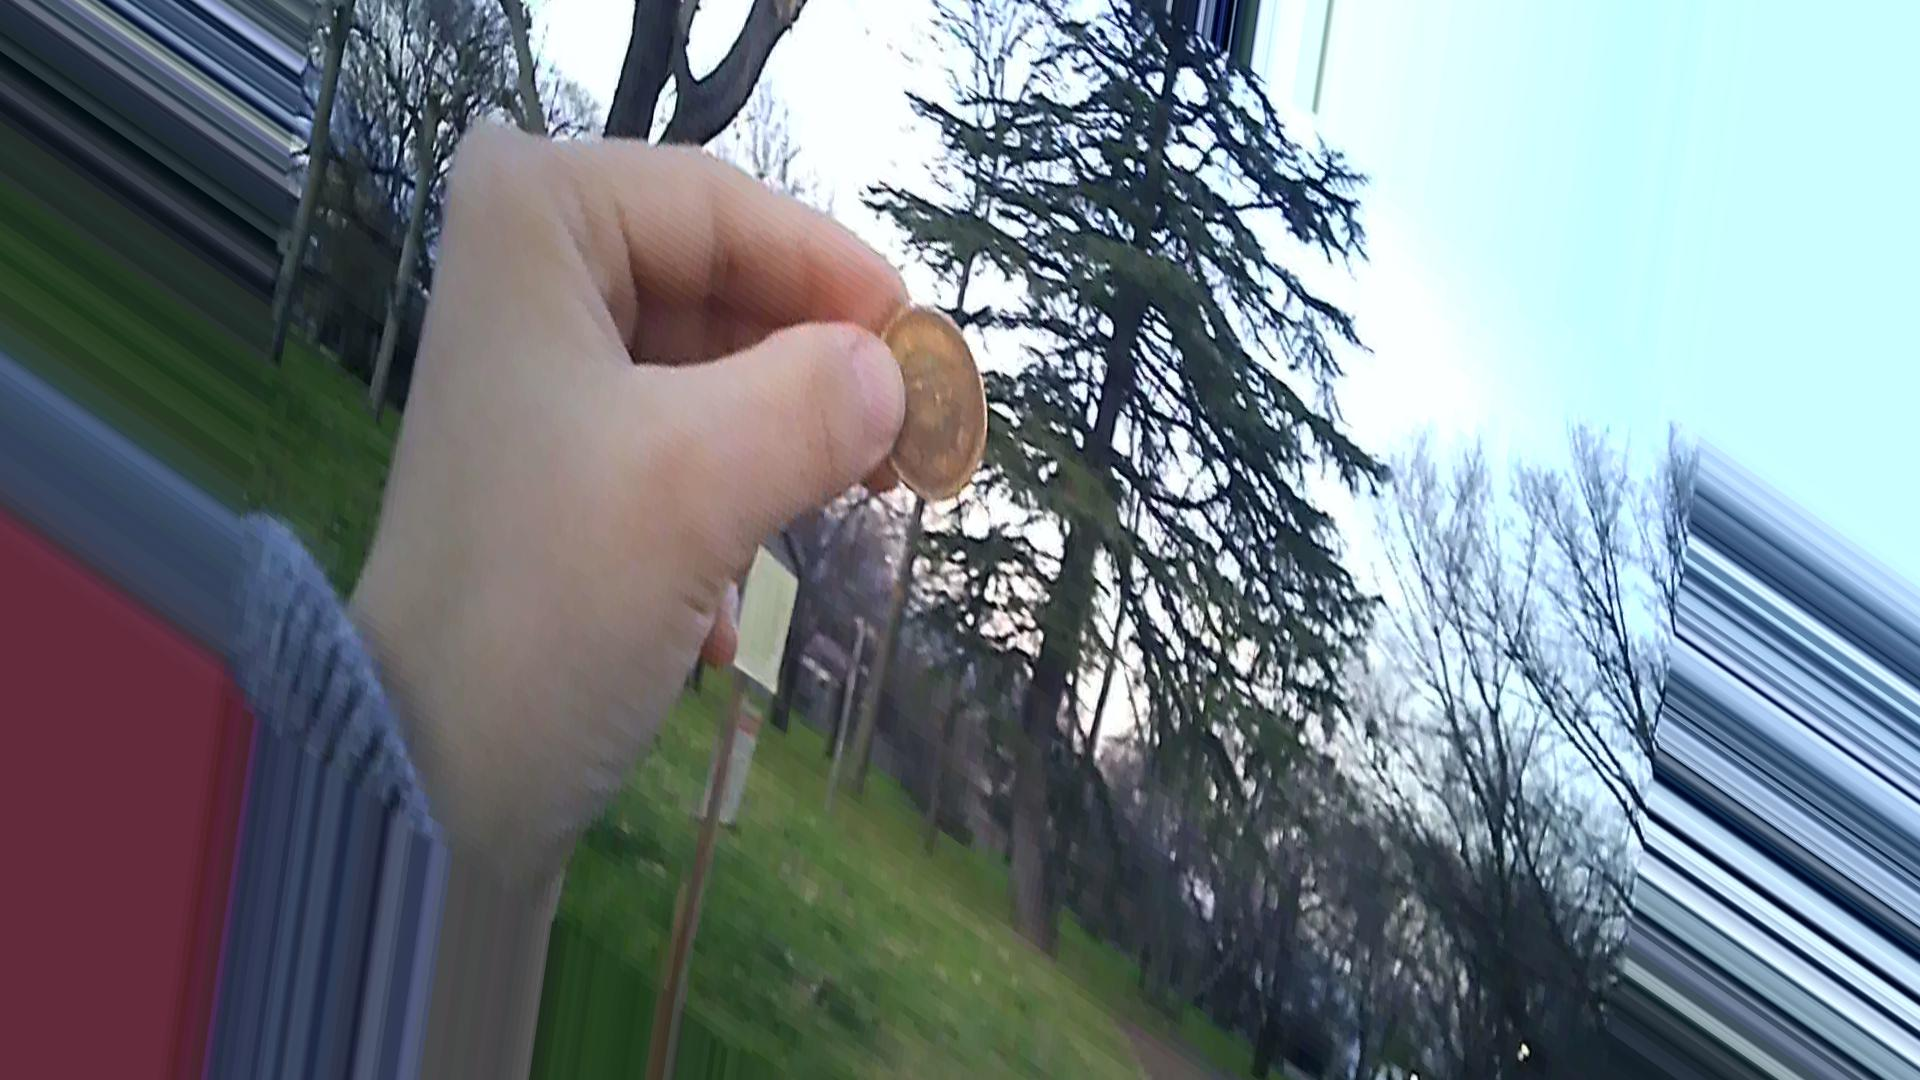10 Yen: (861, 301, 992, 498)
